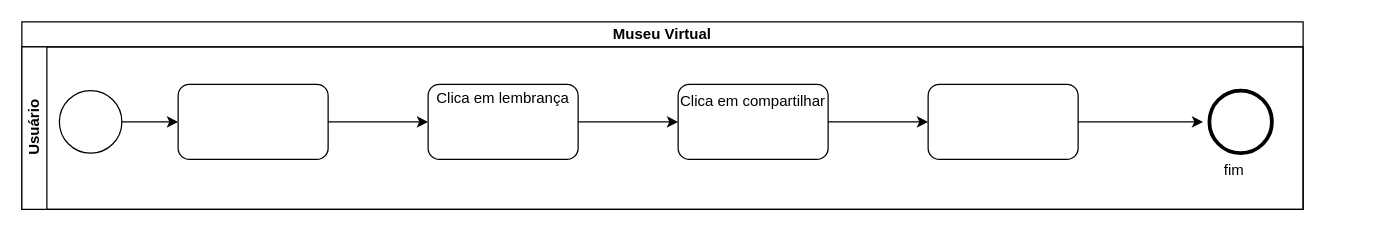
This 1394x231 diagram has some shape labels left out. The shapes that lost their labels are listed below. From the top down, each one's box as (x1, y1, x2, y2) in pixels, then its label:
(177, 83, 328, 159): Acessa o site
(927, 83, 1078, 159): Recebe uma URL da lembrança escolhida
